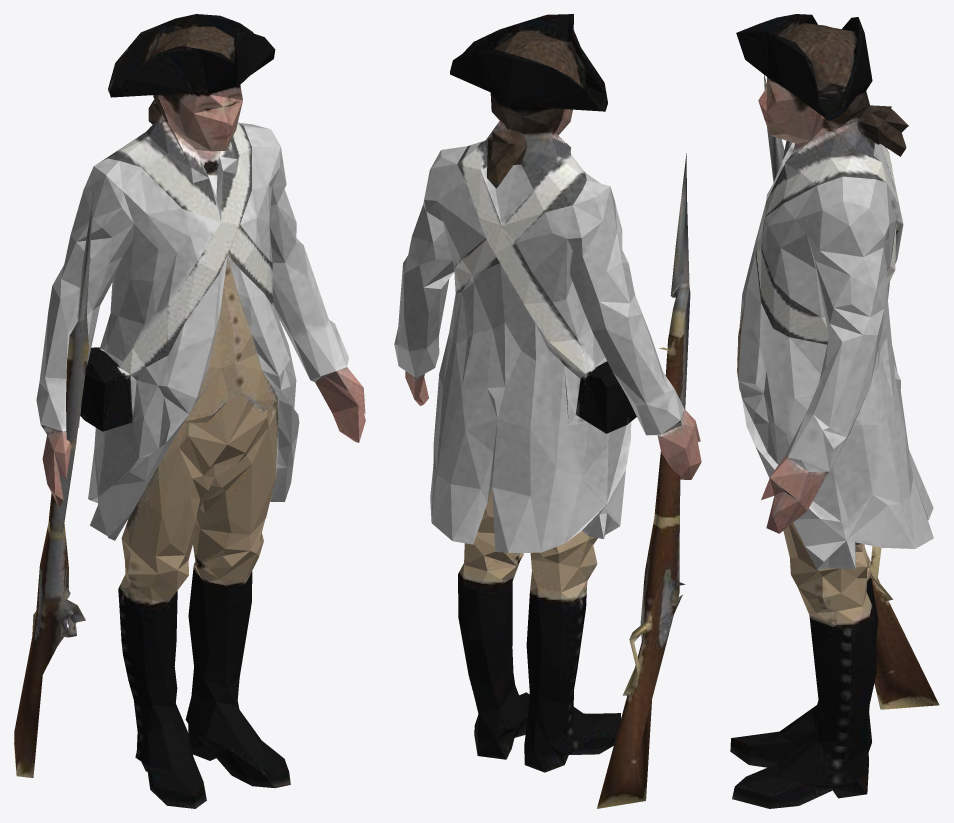
File: realistic-cc0.fdc57677d768.musketman.glb
3 views of the same model, side by side, from view 1: azimuth 30°, elevation 25°; view 2: azimuth 150°, elevation 25°; view 3: azimuth 270°, elevation 25° (orthographic). The views are drawn at different scales.
Parts seen in each view (by area): view 1: musketman; view 2: musketman; view 3: musketman.
Part boxes in pixels (x1,y1,x2,y2): musketman: [14, 14, 365, 808]; musketman: [394, 14, 701, 808]; musketman: [730, 14, 939, 808].
Bounding box in the file's own units: 0.7706 × 1.8 × 0.4535.
3 materials, 3 textured.
